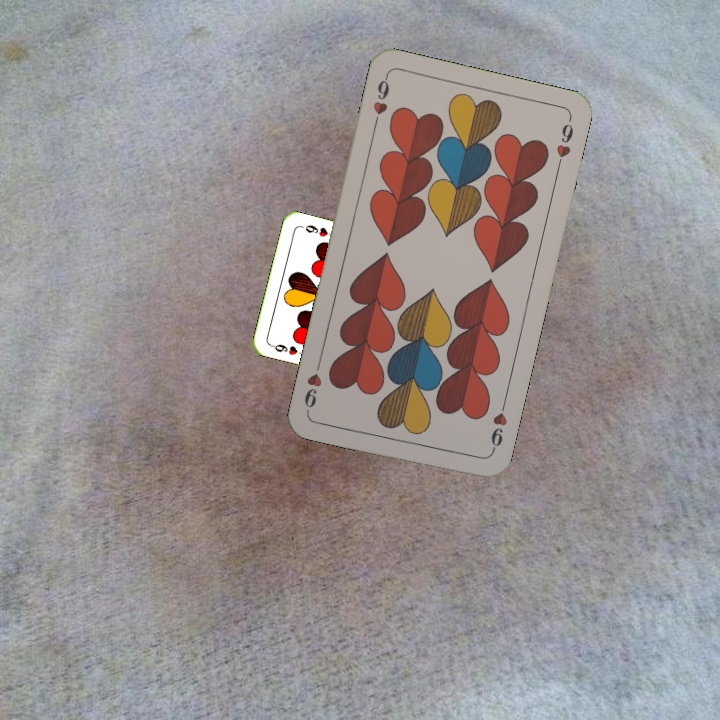H9: (369, 72, 392, 130), (487, 398, 510, 456), (266, 340, 306, 358)
